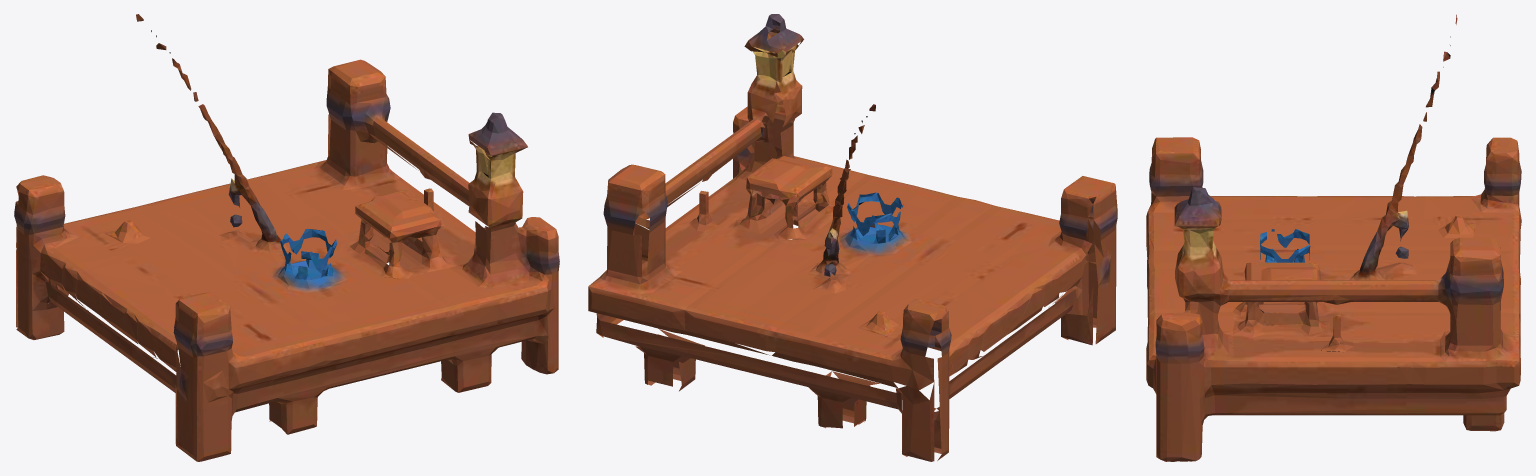
File: M-13_06_fishing_deck.glb
3 renders of one model, left to right at view 1: azimuth 30°, elevation 25°; view 2: azimuth 150°, elevation 25°; view 3: azimuth 270°, elevation 25°, orthographic.
Parts seen in each view (by area): view 1: loA; view 2: loA; view 3: loA.
Part boxes in pixels (bbox=[...]): loA: bbox=[14, 14, 559, 461]; loA: bbox=[588, 14, 1117, 461]; loA: bbox=[1146, 14, 1521, 461].
Size of the model in its own units: 5 by 4.09 by 4.38.
1 material, 1 textured.
